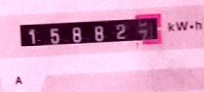1: (27, 27, 37, 45)
2: (115, 22, 126, 40)
5: (48, 27, 60, 44)
7: (137, 28, 148, 41)
8: (71, 25, 82, 43), (94, 25, 104, 41)
screen: (12, 10, 168, 52)
